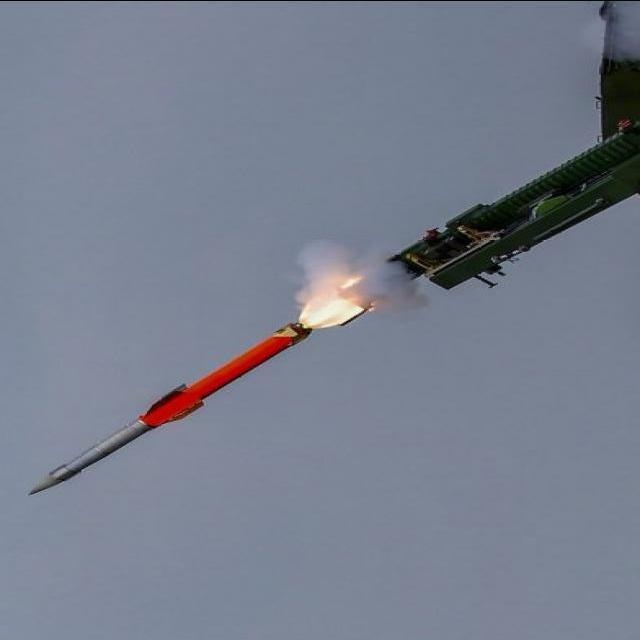missile: (28, 318, 312, 496)
